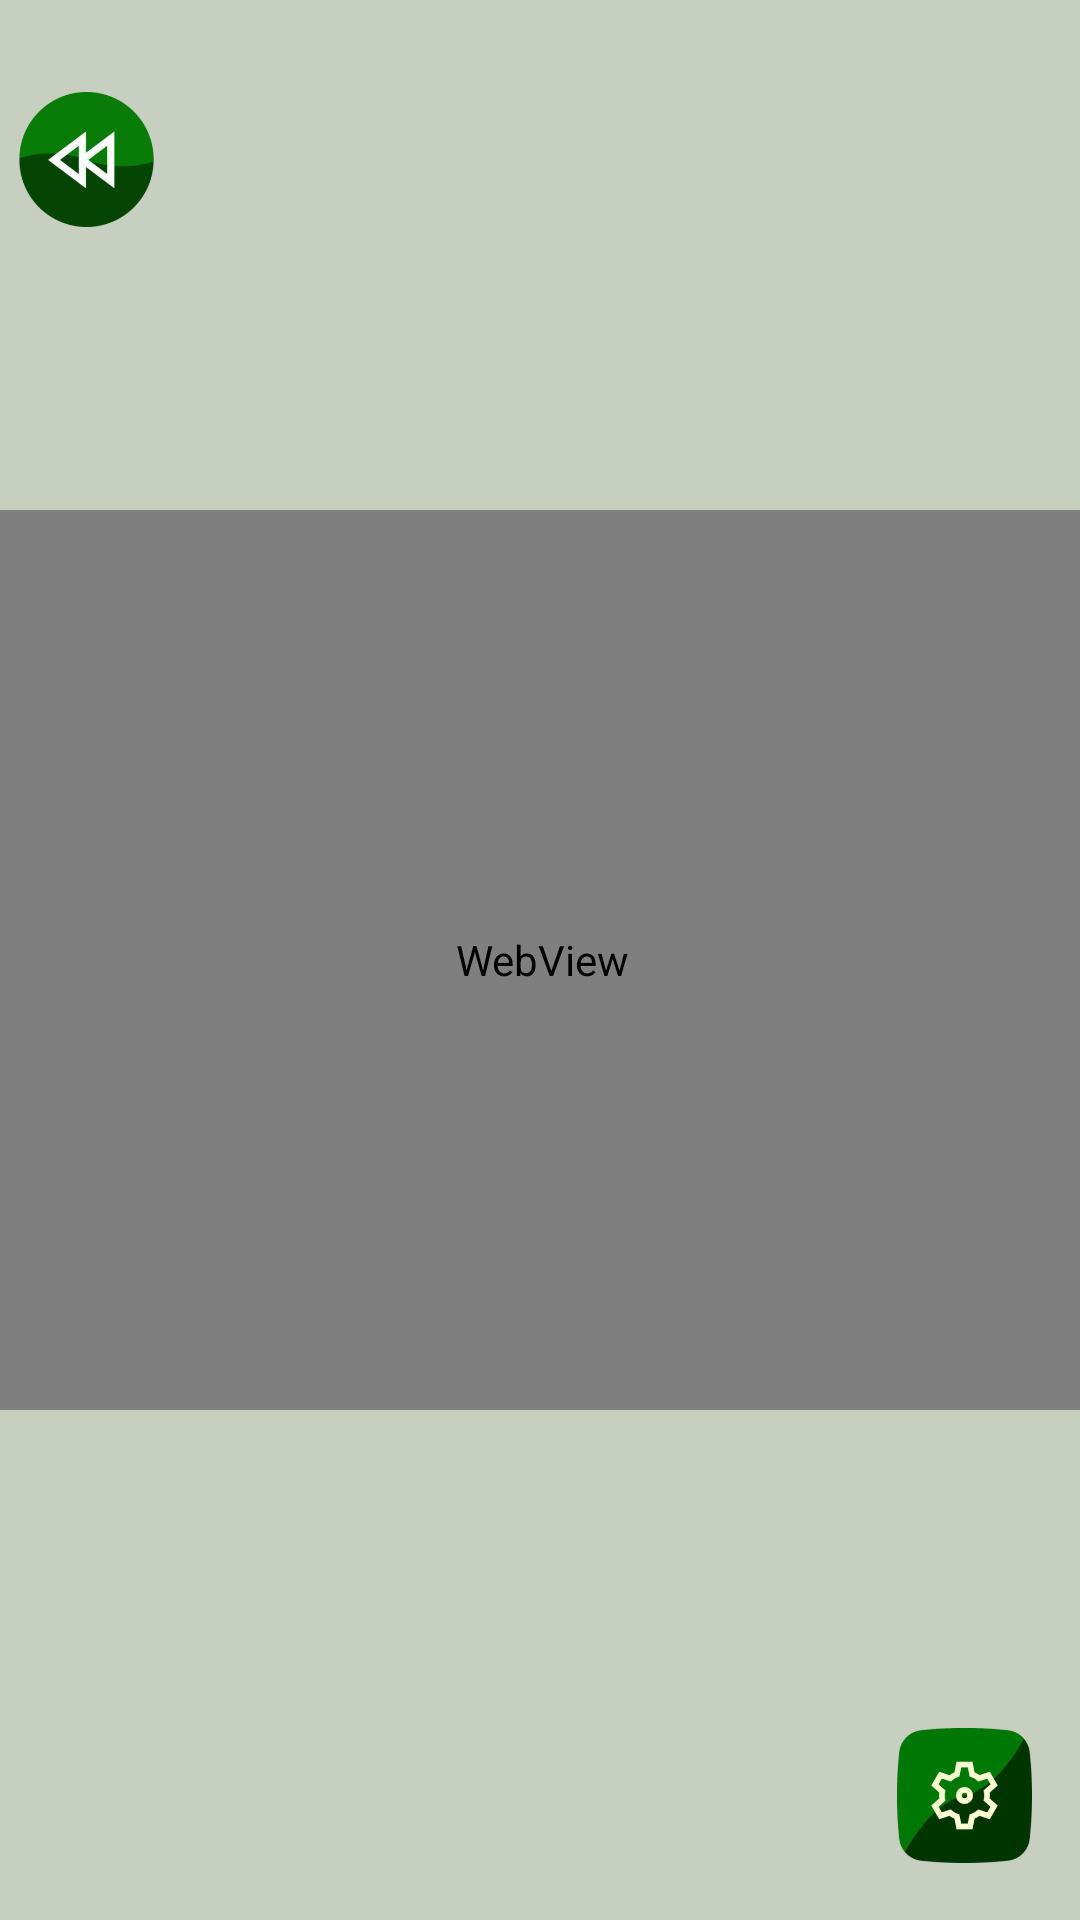

Where icons sit on this 1080px×1920px app screen, as Rect(x1, y1, x2, y2):
Back to home: Rect(19, 92, 154, 227)
Navigate to settings: Rect(897, 1728, 1032, 1863)
